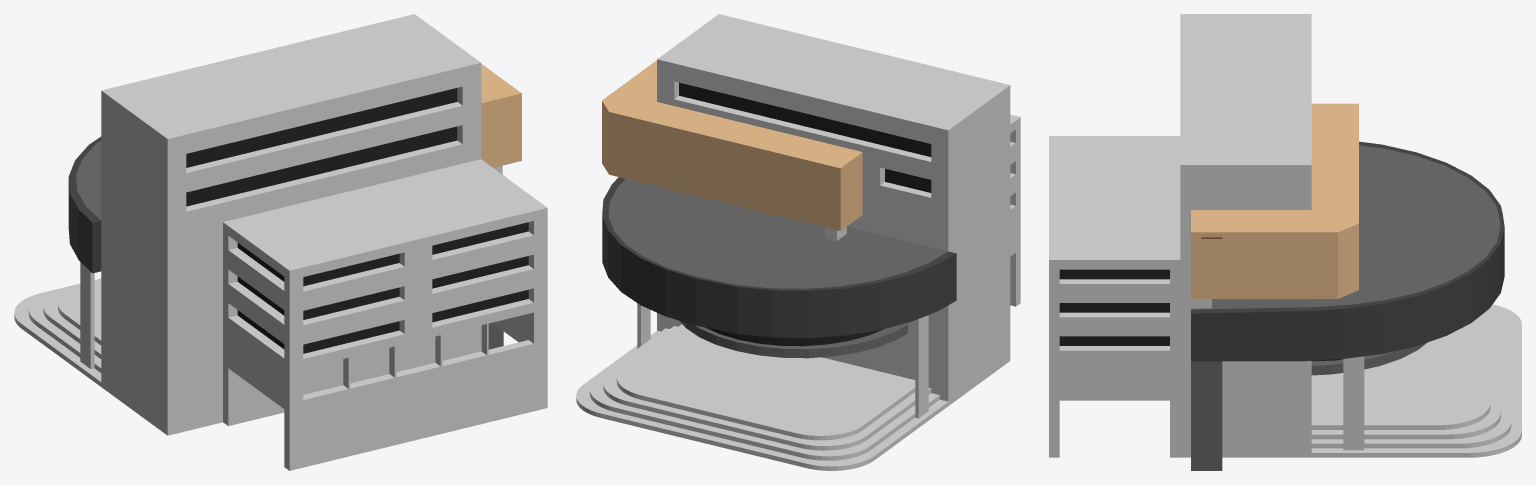
Rendered from Building10th.glb.
3 views of the same model, side by side, from view 1: azimuth 30°, elevation 25°; view 2: azimuth 150°, elevation 25°; view 3: azimuth 270°, elevation 25° (orthographic). The views are drawn at different scales.
Visible parts, largest first — view 1: Cube.119, Cube.121, Cube.120, Stair.002, Cube.123, Cube.126, pill, Cube.124; view 2: Cube.121, Stair.002, Cube.123, Cube.124, Cube.120, Cube.126, Cube.125, pill, Cube.119; view 3: Cube.119, Cube.121, Stair.002, Cube.123, Cube.124, Cube.126, Cube.120, Cube.122, pill, Cube.125.
Boxes of the visible parts, box(x1,y1,x2,y2) form: Cube.119: box(223, 159, 547, 470); Cube.121: box(101, 14, 481, 235); Cube.120: box(101, 187, 222, 435); Stair.002: box(14, 278, 101, 386); Cube.123: box(481, 64, 521, 167); Cube.126: box(68, 136, 101, 273); pill: box(80, 165, 502, 368); Cube.124: box(76, 141, 101, 220); Cube.121: box(657, 14, 1010, 219); Stair.002: box(576, 324, 948, 470); Cube.123: box(602, 60, 862, 230); Cube.124: box(608, 179, 947, 288); Cube.120: box(657, 175, 1010, 405); Cube.126: box(602, 177, 956, 337); Cube.125: box(679, 320, 907, 358); pill: box(637, 227, 928, 418); Cube.119: box(1010, 114, 1020, 306); Cube.119: box(1049, 136, 1180, 457); Cube.121: box(1180, 14, 1311, 259); Stair.002: box(1311, 304, 1521, 457); Cube.123: box(1191, 103, 1358, 298); Cube.124: box(1191, 145, 1500, 309); Cube.126: box(1191, 141, 1504, 361); Cube.120: box(1180, 260, 1311, 457); Cube.122: box(1191, 361, 1222, 470); pill: box(1191, 299, 1364, 450); Cube.125: box(1311, 343, 1426, 375).
Size of the model in its own units: 4.24 by 3.25 by 4.76.
